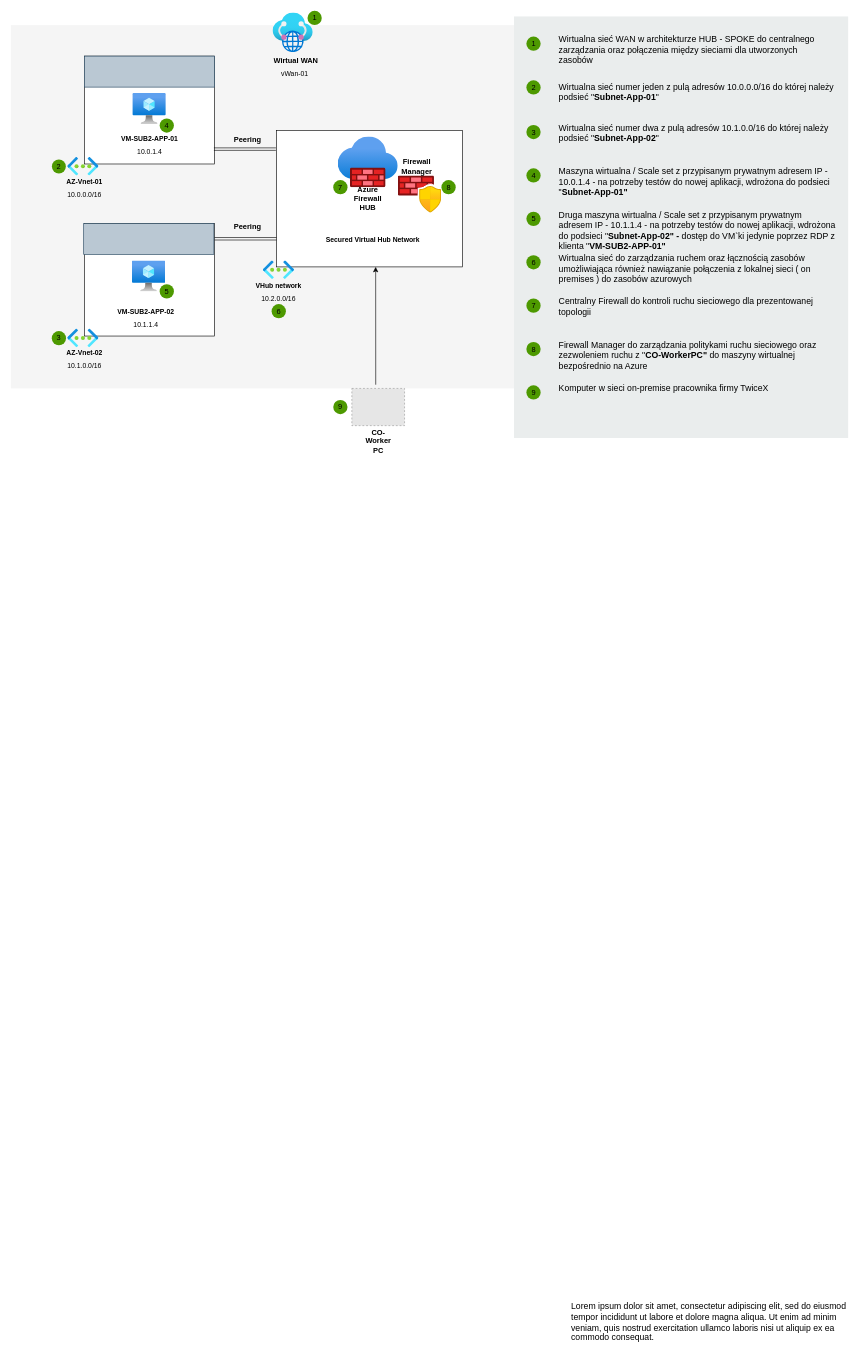
Some shapes in this 859 by 1355 pixel diagram are drawn without their labels. Grey dashed boxes stand in for pictures. Each missing label, with the centre of its shape:
"Subnet-App-01 10.0.1.0/24" goes at (149,71).
"Subnet-App-02 10.1.1.0/24" goes at (148,239).
